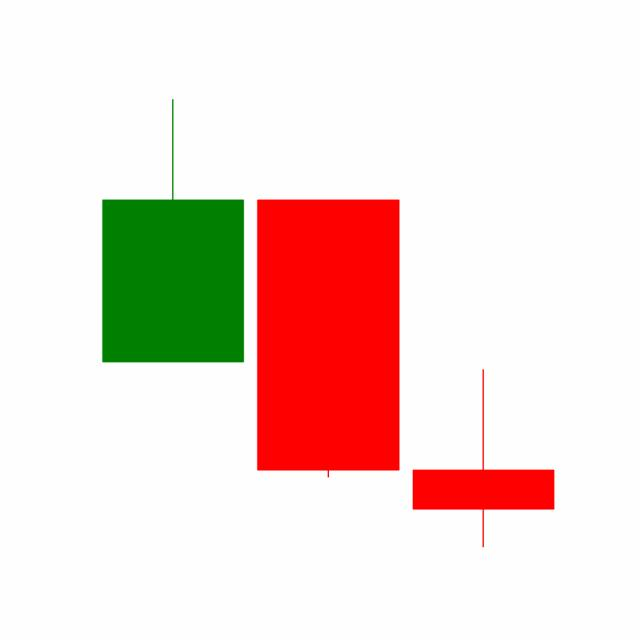Gravestone Doji: (405, 367, 561, 549)
